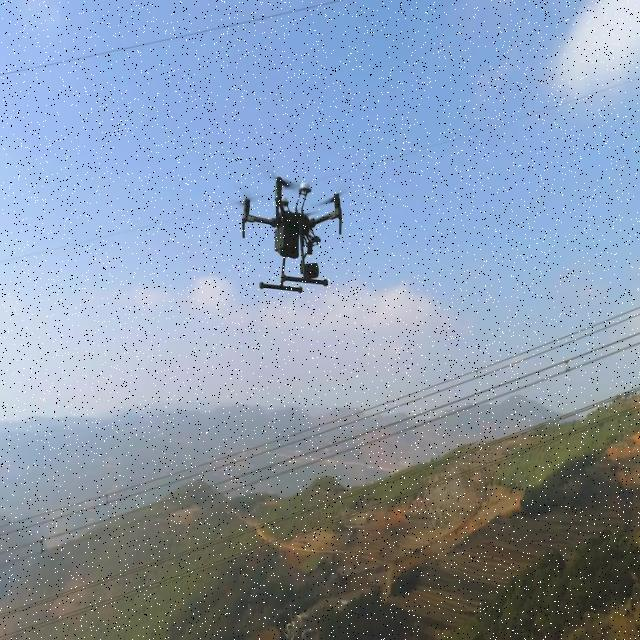UAV: (238, 173, 344, 294)
